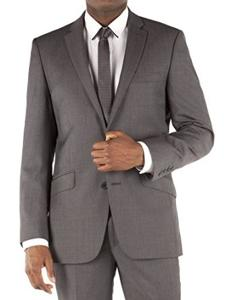F_M_suit jacket: (18, 11, 214, 257)
F_dress pants: (47, 201, 182, 298)
F_tie: (93, 26, 118, 114)
